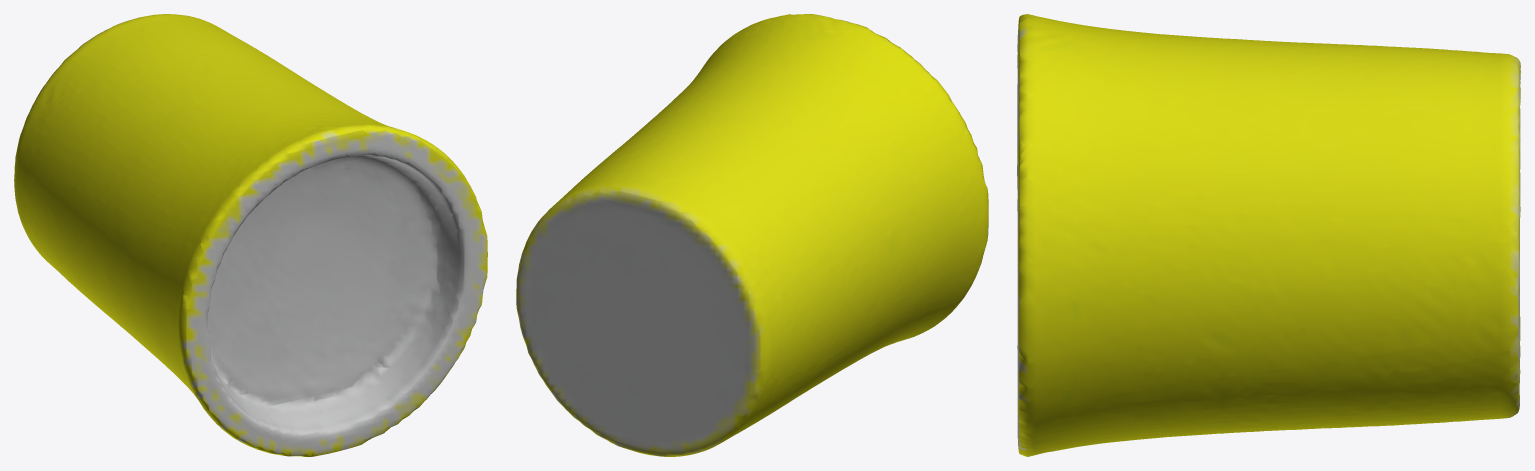
File: a graspable mug.obj
3 views of the same model, side by side, from view 1: azimuth 30°, elevation 25°; view 2: azimuth 150°, elevation 25°; view 3: azimuth 270°, elevation 25° (orthographic). The views are drawn at different scales.
Size of the model in its own units: 0.874 by 0.8794 by 0.9995.
